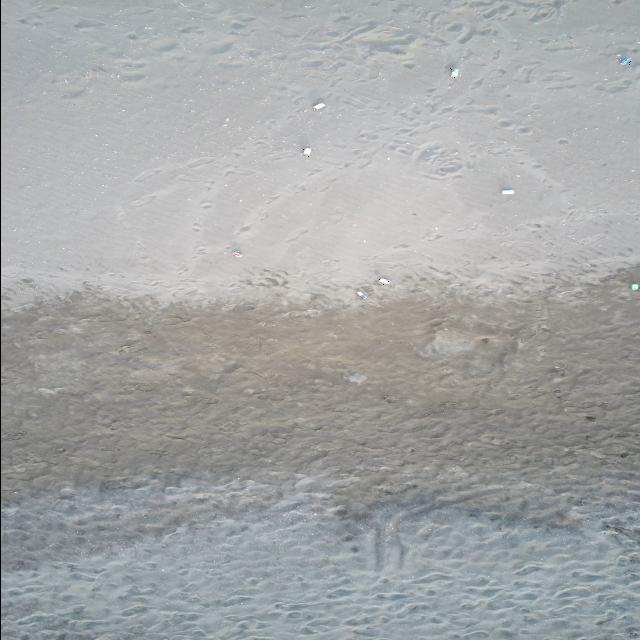Garbage: (344, 372, 367, 384), (448, 65, 459, 77), (616, 55, 630, 64), (356, 289, 367, 300), (312, 100, 324, 110), (301, 147, 310, 156), (379, 276, 390, 283), (232, 248, 241, 256), (502, 187, 513, 193), (630, 283, 639, 289)
